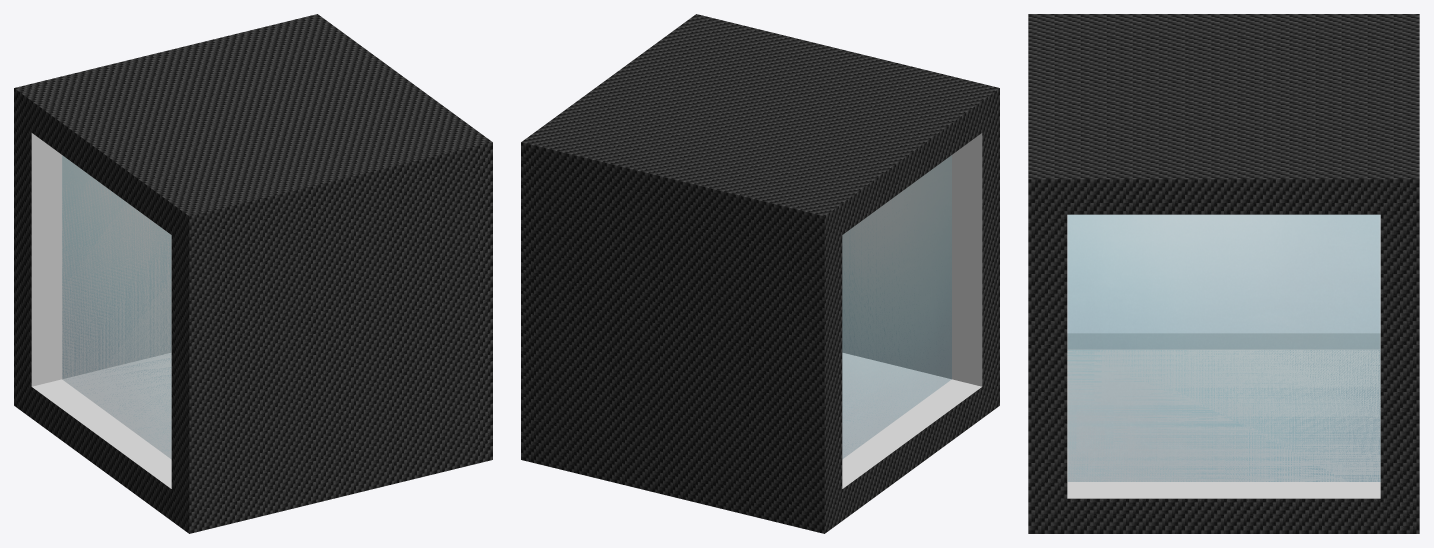
Rendered from ventana4.fbx.
The picture shows the model from 3 angles, left to right: view 1: azimuth 30°, elevation 25°; view 2: azimuth 150°, elevation 25°; view 3: azimuth 270°, elevation 25°; orthographic projection. The views are drawn at different scales.
Visible parts, largest first — view 1: Cube_2, Cube_1, Cube; view 2: Cube_2, Cube_1, Cube; view 3: Cube_2, Cube, Cube_1.
Part boxes in pixels (x1,y1,x2,y2): Cube_2: [14, 14, 492, 533]; Cube_1: [31, 133, 171, 488]; Cube: [62, 155, 171, 458]; Cube_2: [521, 14, 999, 533]; Cube_1: [842, 133, 982, 488]; Cube: [842, 155, 951, 458]; Cube_2: [1028, 14, 1419, 533]; Cube: [1067, 215, 1380, 481]; Cube_1: [1067, 333, 1380, 498].
Bounding box in the file's own units: 1 × 1 × 1.
2 materials, 2 textured.
